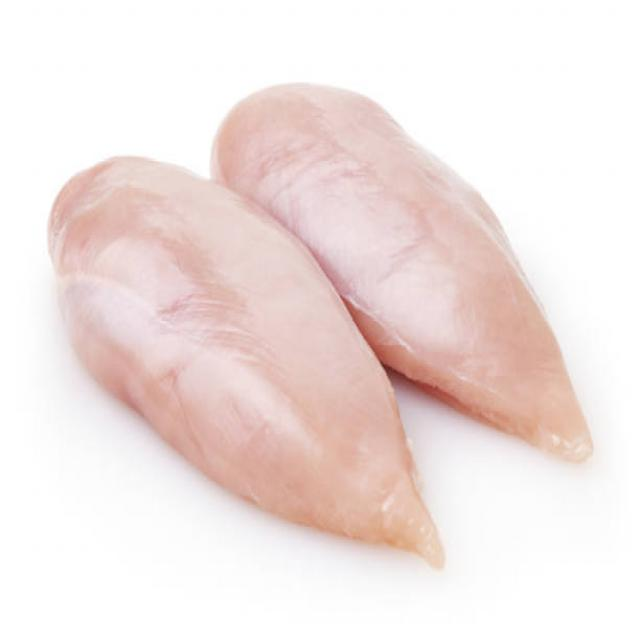Chicken: (368, 55, 609, 428), (26, 178, 265, 489)
